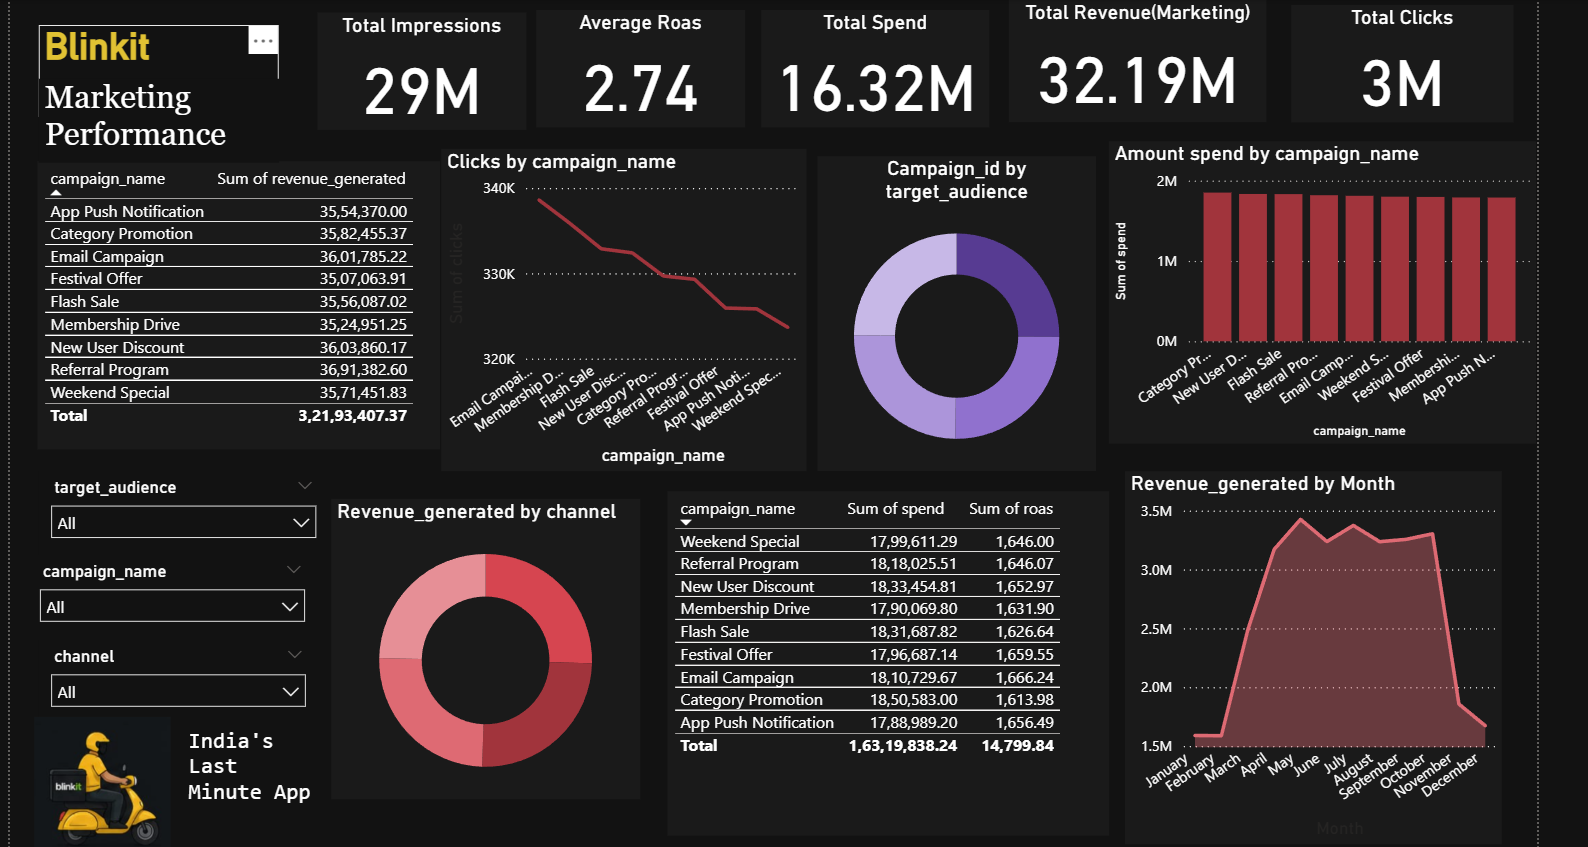

The dashboard page shown, as its layout file describes it:
{"tool":"powerbi","page":{"name":"Marketing","canvas":[1280,720],"ordinal":2},"visuals":[{"type":"tableEx","fields":{"Values":["blinkit_marketing_performance.campaign_name","Sum(blinkit_marketing_performance.revenue_generated)"]},"box":[23.2,135.4,337.8,241.5],"z":0},{"type":"columnChart","title":"Amount spend by campaign_name","fields":{"Category":["blinkit_marketing_performance.campaign_name"],"Y":["Sum(blinkit_marketing_performance.spend)"]},"box":[921.2,118.8,358.8,253.8],"z":1000},{"type":"lineChart","title":"Clicks by campaign_name","fields":{"Category":["blinkit_marketing_performance.campaign_name"],"Y":["Sum(blinkit_marketing_performance.clicks)"]},"box":[361.2,125,306.2,270],"z":2000},{"type":"areaChart","title":"Revenue_generated by Month","fields":{"Y":["Sum(blinkit_marketing_performance.revenue_generated)"],"Category":["blinkit_marketing_performance.date.Variation.Date Hierarchy.Month"]},"box":[935,395,316.2,312.5],"z":3000},{"type":"donutChart","title":"Campaign_id by target_audience","fields":{"Category":["blinkit_marketing_performance.target_audience"],"Y":["CountNonNull(blinkit_marketing_performance.campaign_id)"]},"box":[677.5,131.2,233.8,263.8],"z":4000},{"type":"donutChart","title":" Revenue_generated by channel","fields":{"Category":["blinkit_marketing_performance.channel"],"Y":["Sum(blinkit_marketing_performance.revenue_generated)"]},"box":[269.8,418.6,259.3,252.3],"z":5000},{"type":"tableEx","fields":{"Values":["blinkit_marketing_performance.campaign_name","Sum(blinkit_marketing_performance.spend)","Sum(blinkit_marketing_performance.roas)"]},"box":[551.2,412.5,370,288.8],"z":6000},{"type":"slicer","fields":{"Values":["blinkit_marketing_performance.target_audience"]},"box":[23.8,395,242.5,78.8],"z":7000},{"type":"card","title":"Total Revenue(Marketing)","fields":{"Values":["blinkit_customer_feedback.Total Revenue(Marketing)"]},"box":[837.5,0,216.2,102.5],"z":8000},{"type":"card","title":"Total Spend","fields":{"Values":["blinkit_customer_feedback.Total Spend"]},"box":[630,8.8,191.2,98.8],"z":9000},{"type":"card","title":"Total Clicks","fields":{"Values":["blinkit_customer_feedback.Total Clicks"]},"box":[1075,3.8,186.2,98.8],"z":10000},{"type":"card","title":"Average Roas","fields":{"Values":["blinkit_customer_feedback.Average ROAS"]},"box":[441.2,8.8,175,98.8],"z":11000},{"type":"card","title":"Total Impressions","fields":{"Values":["blinkit_customer_feedback.Total Impressions"]},"box":[257.5,10,175,98.8],"z":12000},{"type":"slicer","fields":{"Values":["blinkit_marketing_performance.channel"]},"box":[23.8,536.2,233.8,72.5],"z":13000},{"type":"slicer","fields":{"Values":["blinkit_marketing_performance.campaign_name"]},"box":[15,465,242.5,71.2],"z":14000},{"type":"textbox","title":"Blinkit","box":[23.8,21.2,201.2,77.5],"z":15000},{"type":"textbox","title":"Marketing Performance","box":[23.8,66.2,201.2,70],"z":16000},{"type":"image","box":[15,596.2,126.2,123.8],"z":17000},{"type":"textbox","title":"India''s Last Minute App","box":[145.1,609.8,120.7,98.8],"z":18000}]}

Visuals, with their boxes on the page's 1280x720 design canvas (x1, y1, x2, y2). These are canvas units, not pixel positions in the 1588x847 screenshot, which may show the page scaled, cropped or inside an application window:
tableEx - blinkit_marketing_performance.campaign_name x Sum(blinkit_marketing_performance.revenue_generated): 23 135 361 377
"Amount spend by campaign_name" columnChart: 921 119 1280 373
"Clicks by campaign_name" lineChart: 361 125 667 395
"Revenue_generated by Month" areaChart: 935 395 1251 708
"Campaign_id by target_audience" donutChart: 678 131 911 395
" Revenue_generated by channel" donutChart: 270 419 529 671
tableEx - blinkit_marketing_performance.campaign_name x Sum(blinkit_marketing_performance.spend): 551 412 921 701
slicer - blinkit_marketing_performance.target_audience: 24 395 266 474
"Total Revenue(Marketing)" card: 838 0 1054 102
"Total Spend" card: 630 9 821 108
"Total Clicks" card: 1075 4 1261 103
"Average Roas" card: 441 9 616 108
"Total Impressions" card: 258 10 432 109
slicer - blinkit_marketing_performance.channel: 24 536 258 609
slicer - blinkit_marketing_performance.campaign_name: 15 465 258 536
"Blinkit" textbox: 24 21 225 99
"Marketing Performance" textbox: 24 66 225 136
image: 15 596 141 720
"India''s Last Minute App" textbox: 145 610 266 709
